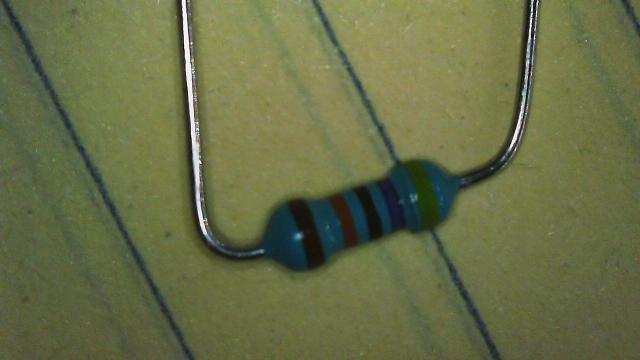black: (354, 185, 382, 240)
brown: (287, 199, 324, 268)
orange: (329, 193, 358, 248)
resistor: (256, 152, 469, 280)
violet: (378, 178, 406, 231)
yellow: (403, 160, 440, 228)
